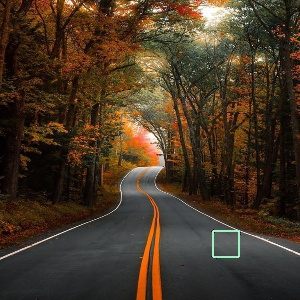square: (210, 227, 243, 261)
